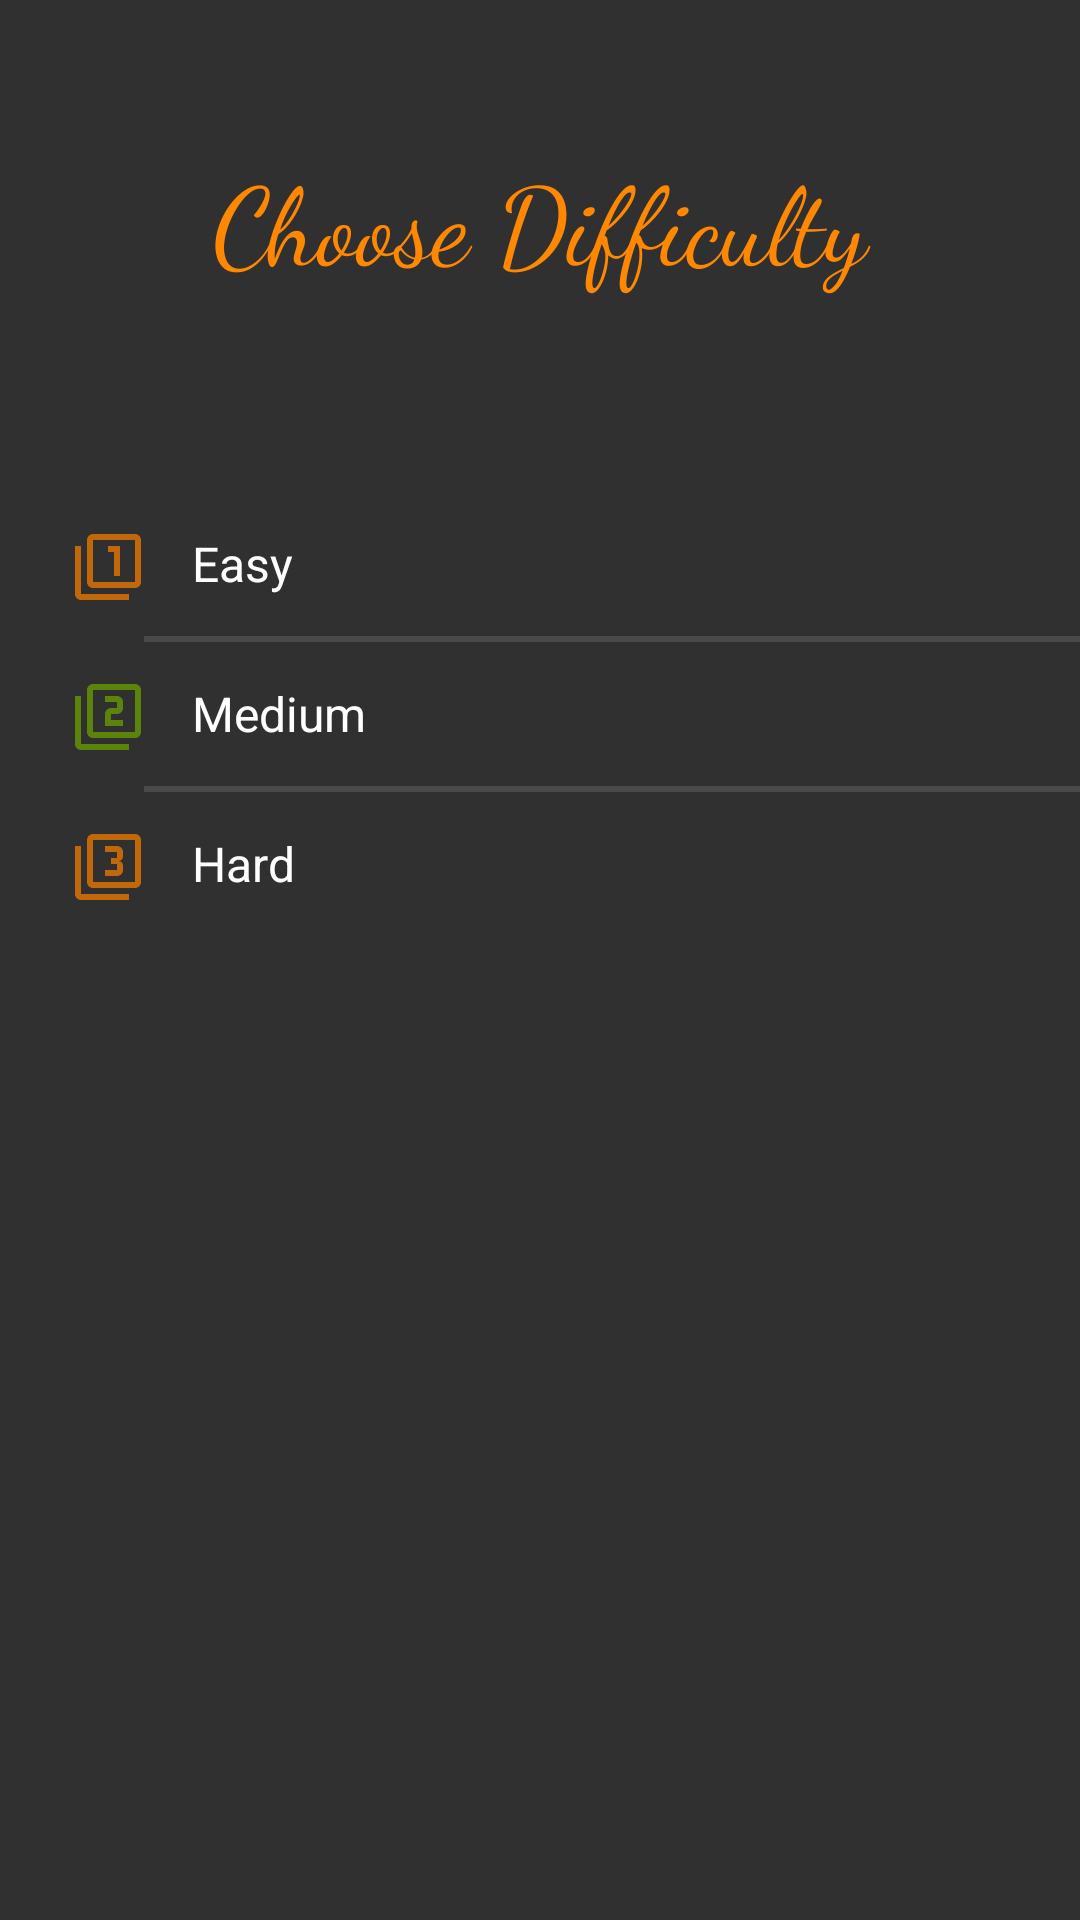

Named icons in this screenshot (1080*1920) and their bounding boxes, bbox(x1, y1, x2, y2):
diff one: bbox(75, 534, 141, 600)
diff three: bbox(75, 834, 141, 900)
diff two: bbox(75, 684, 141, 750)
